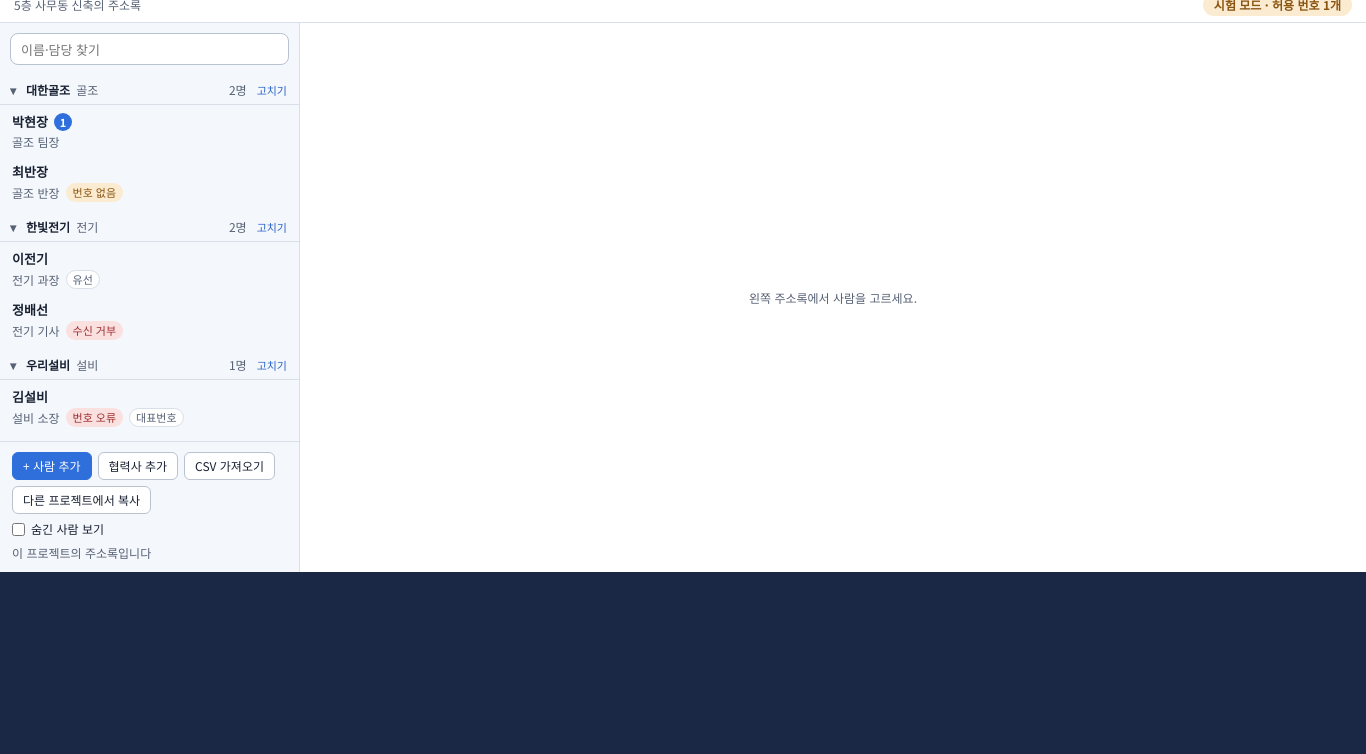
Test: 참여 프로젝트: checking another project picks its company and registers the person there
Click the button "박현장 1 골조 팀장".
click(30, 122)  # box [0,107,299,157]
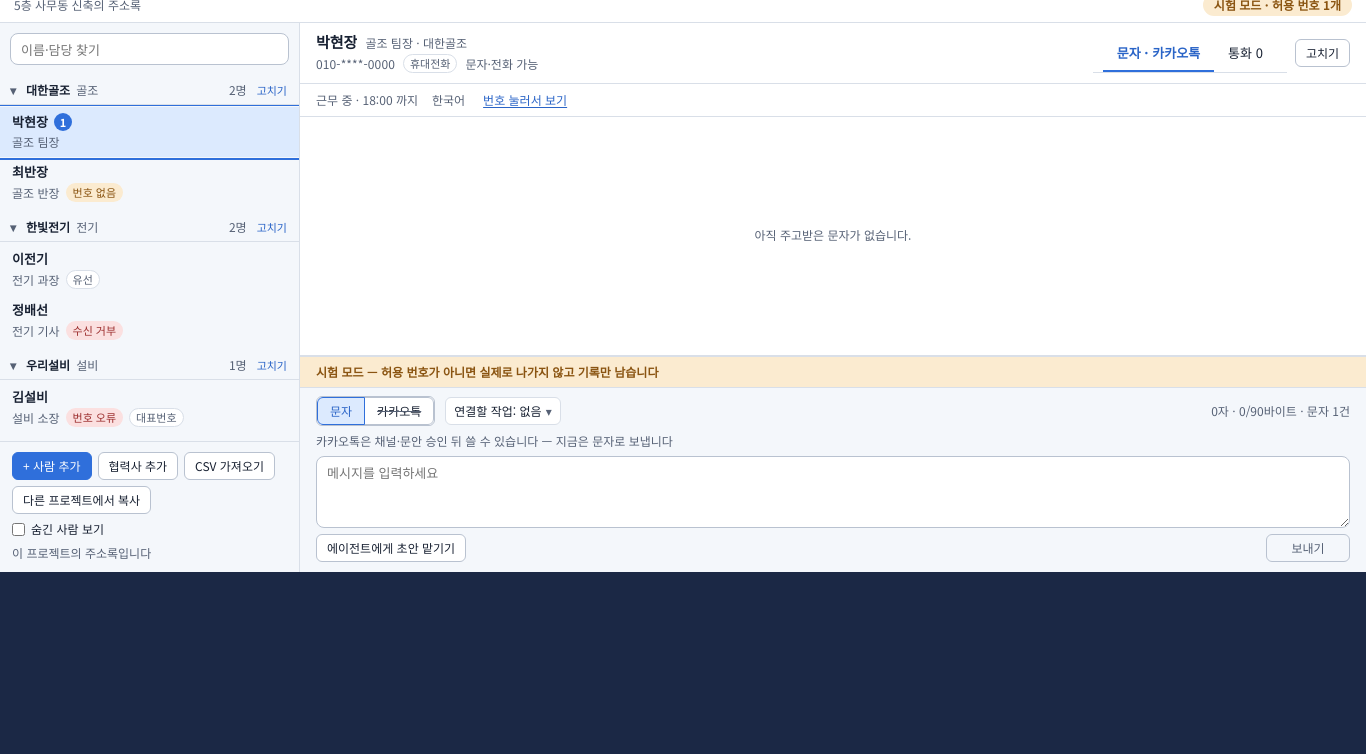
Click the button "고치기" in the row of "문자·전화 가능".
click(1322, 53)  # box [1295,39,1350,67]
(page scrolled)
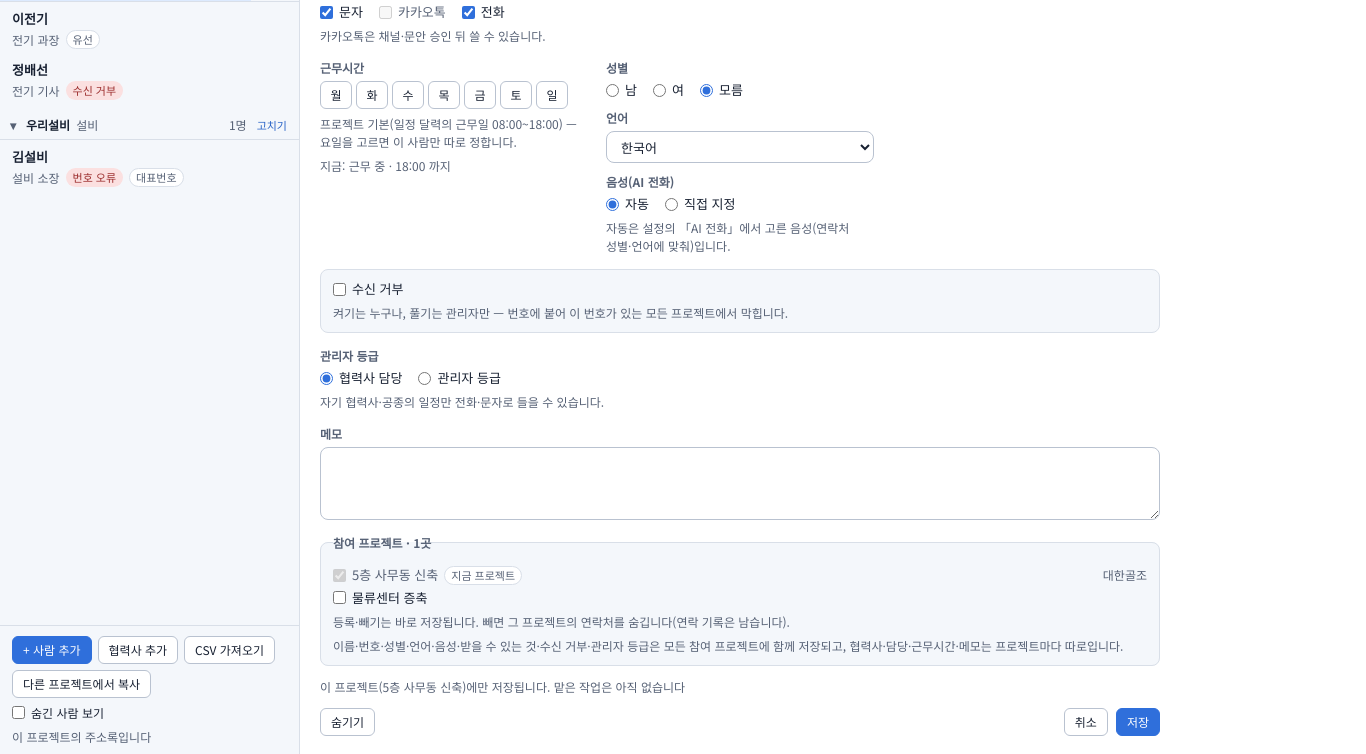
Check: the checkbox labelled "5층 사무동 신축 지금 프로젝트 대한골조" is checked, box [333,568,346,582]
Check: the checkbox labelled "5층 사무동 신축 지금 프로젝트 대한골조" is disabled, box [333,568,346,582]
Click the checkbox labelled "물류센터 증축".
click(340, 598)  # box [333,591,346,604]
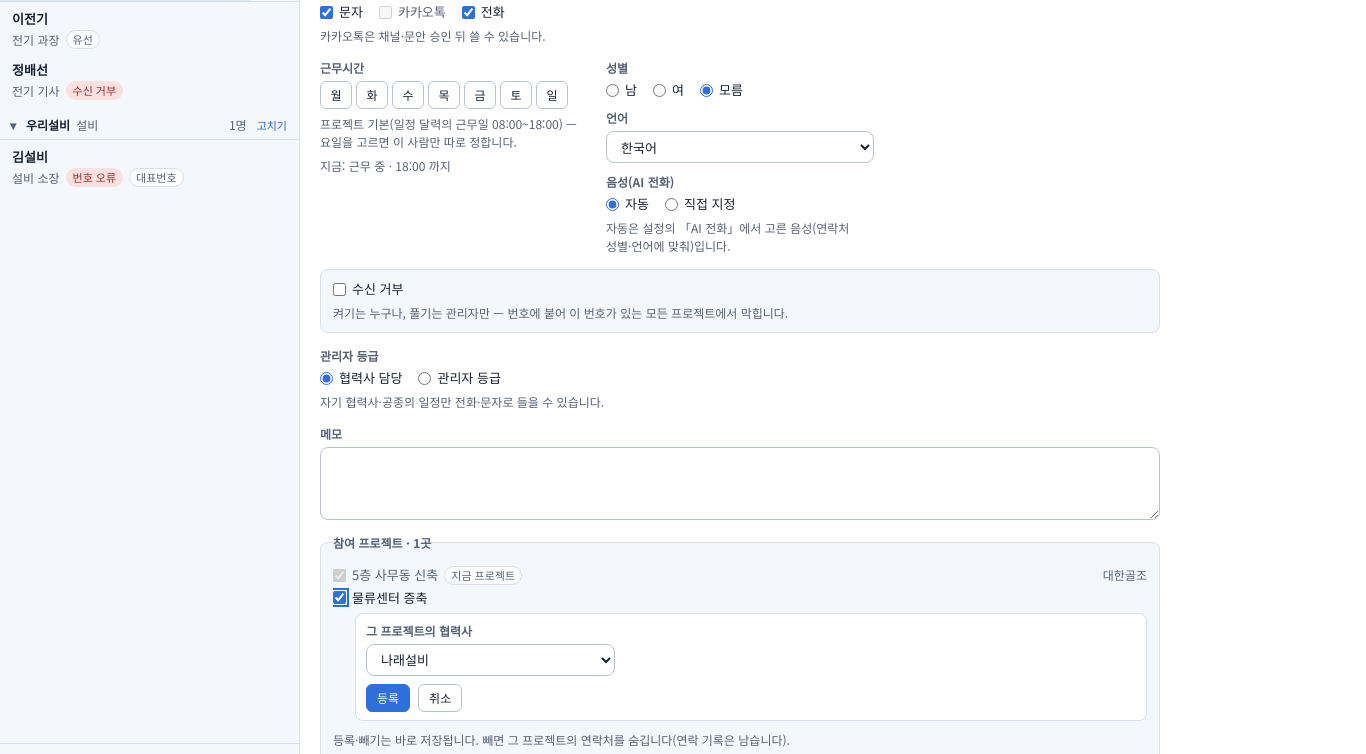
Click the button "등록".
click(388, 698)  # box [366,684,410,712]
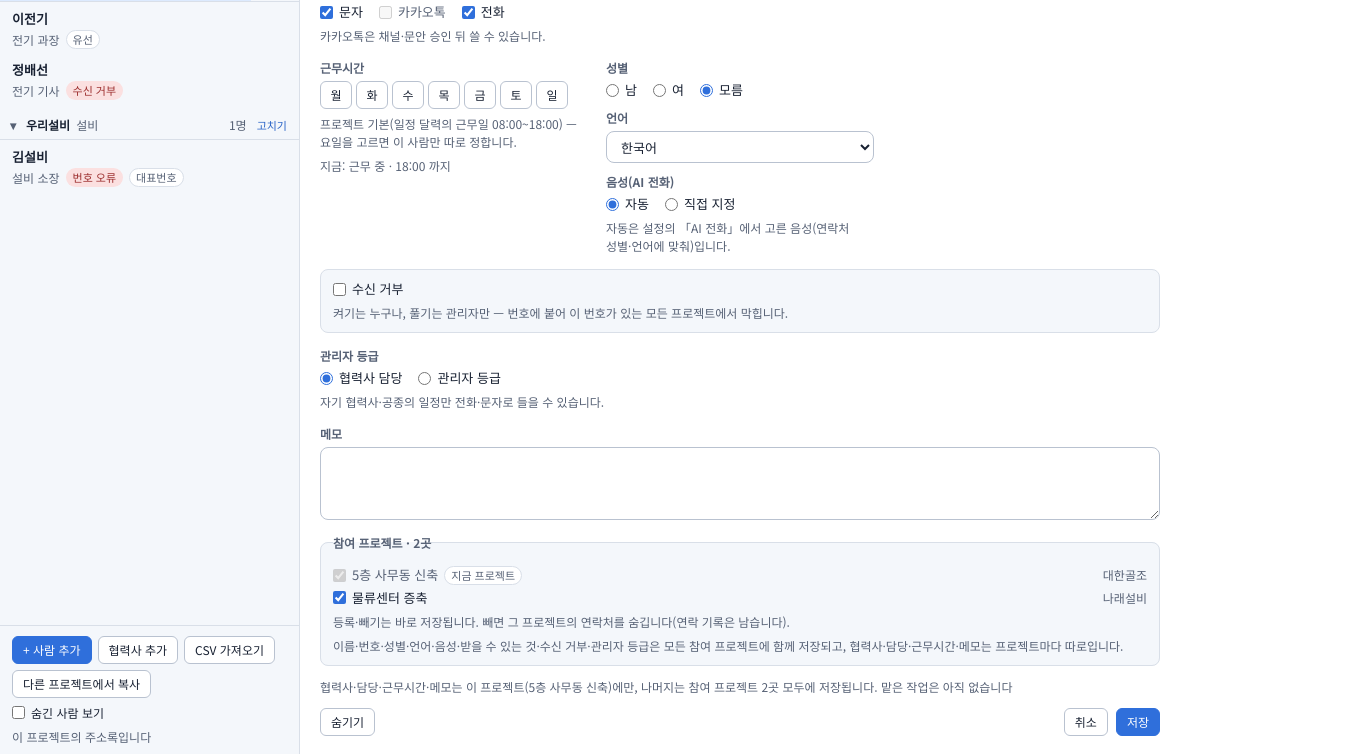
Check: the text "나래설비" is shown, box [1103,588,1147,606]
Check: the text "참여 프로젝트 2곳 모두에 저장됩니다" is shown, box [320,678,1012,694]
